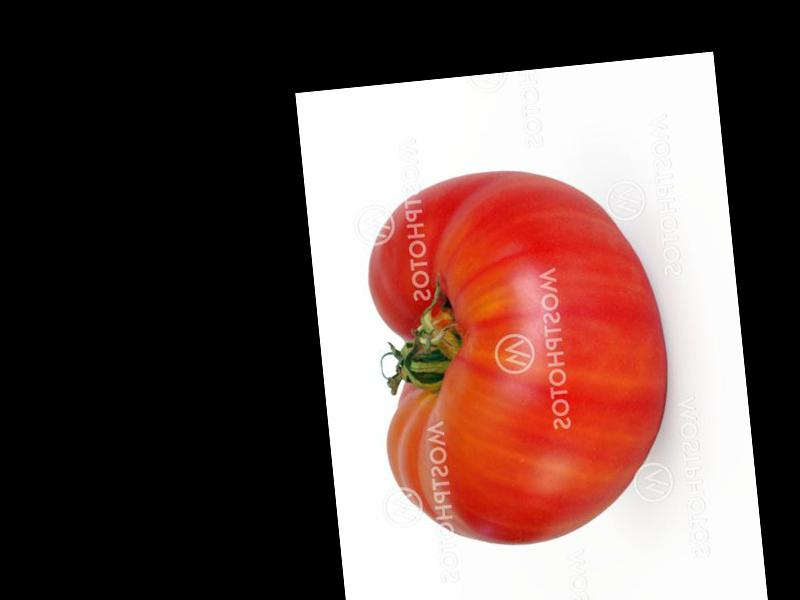Tomato: (358, 157, 682, 557)
